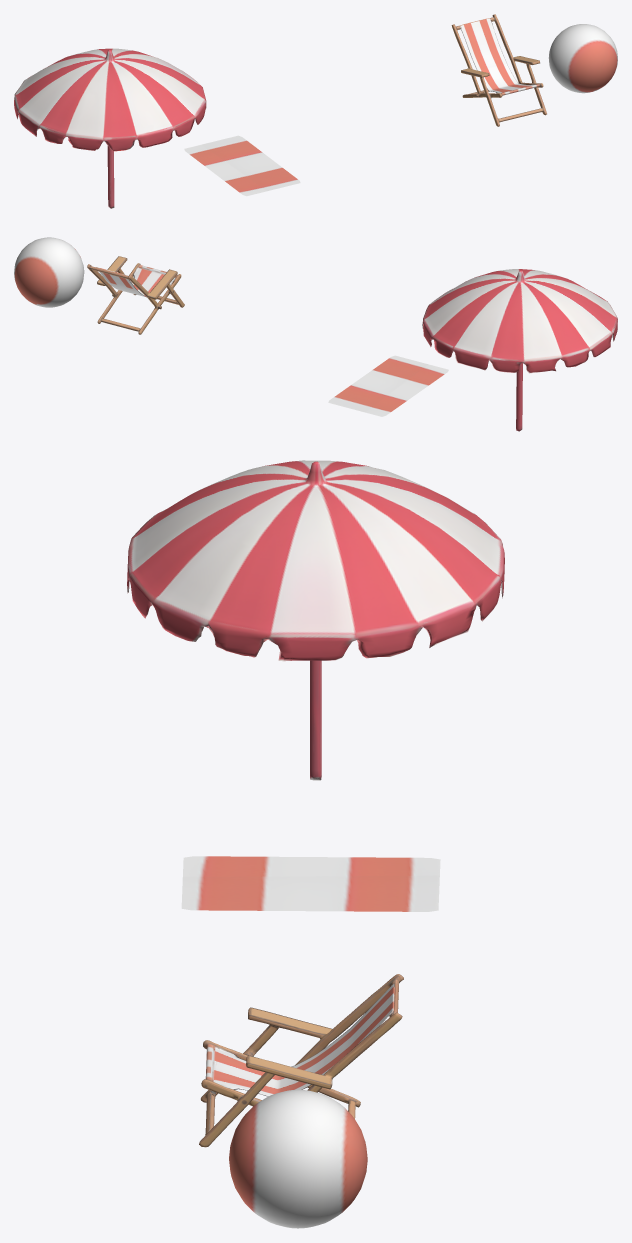
Rendered from beach_kit.glb.
3 views of the same model, one above another, from view 1: azimuth 30°, elevation 25°; view 2: azimuth 150°, elevation 25°; view 3: azimuth 270°, elevation 25° (orthographic). The views are drawn at different scales.
Visible parts, largest first — view 1: Beach umbrella, Beach chair, Beach ball, Beach towel; view 2: Beach umbrella, Beach ball, Beach towel, Beach chair; view 3: Beach umbrella, Beach ball, Beach towel, Beach chair.
Part boxes in pixels (x1,y1,x2,y2): Beach umbrella: [14, 48, 206, 208]; Beach chair: [451, 14, 546, 126]; Beach ball: [548, 24, 617, 93]; Beach towel: [184, 135, 300, 196]; Beach umbrella: [422, 269, 617, 431]; Beach ball: [14, 237, 84, 307]; Beach towel: [328, 355, 448, 416]; Beach chair: [87, 256, 184, 334]; Beach umbrella: [127, 460, 504, 780]; Beach ball: [229, 1089, 367, 1228]; Beach towel: [181, 856, 440, 911]; Beach chair: [199, 974, 403, 1147].
Size of the model in its own units: 12.48 by 3.24 by 3.51.
2 materials, 2 textured.
